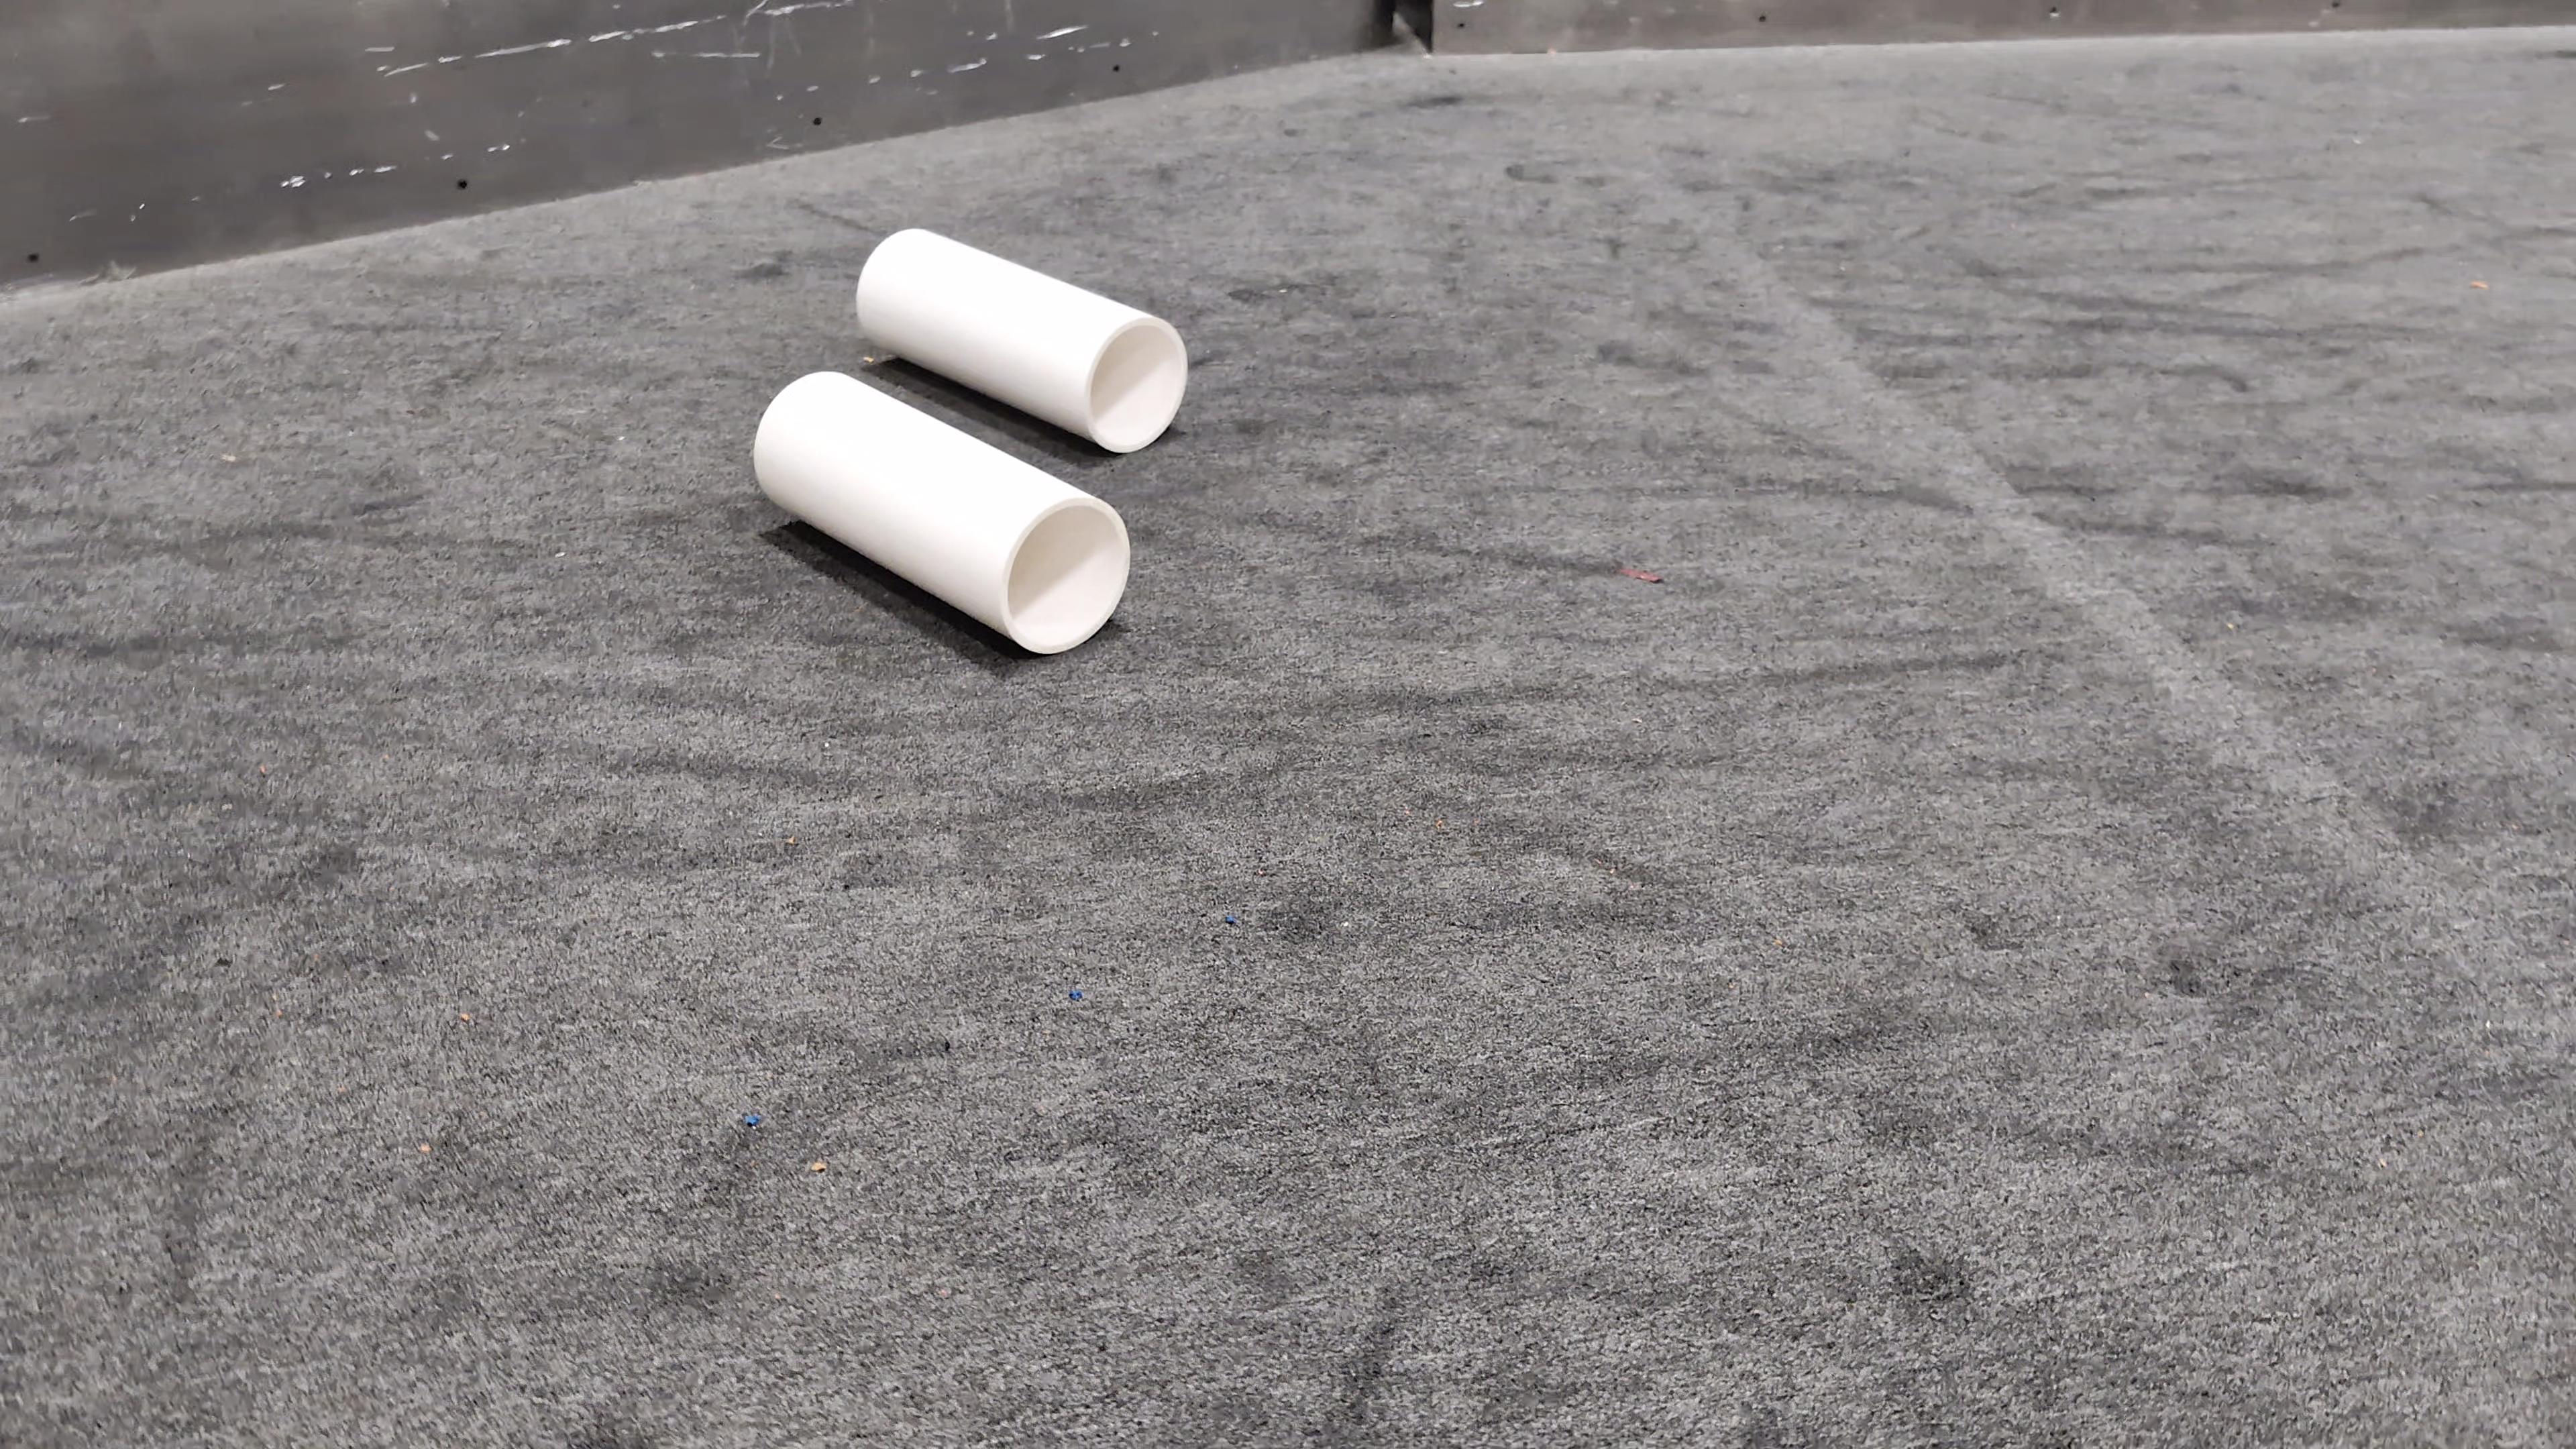coral: (748, 366, 1143, 653), (858, 228, 1187, 451)
